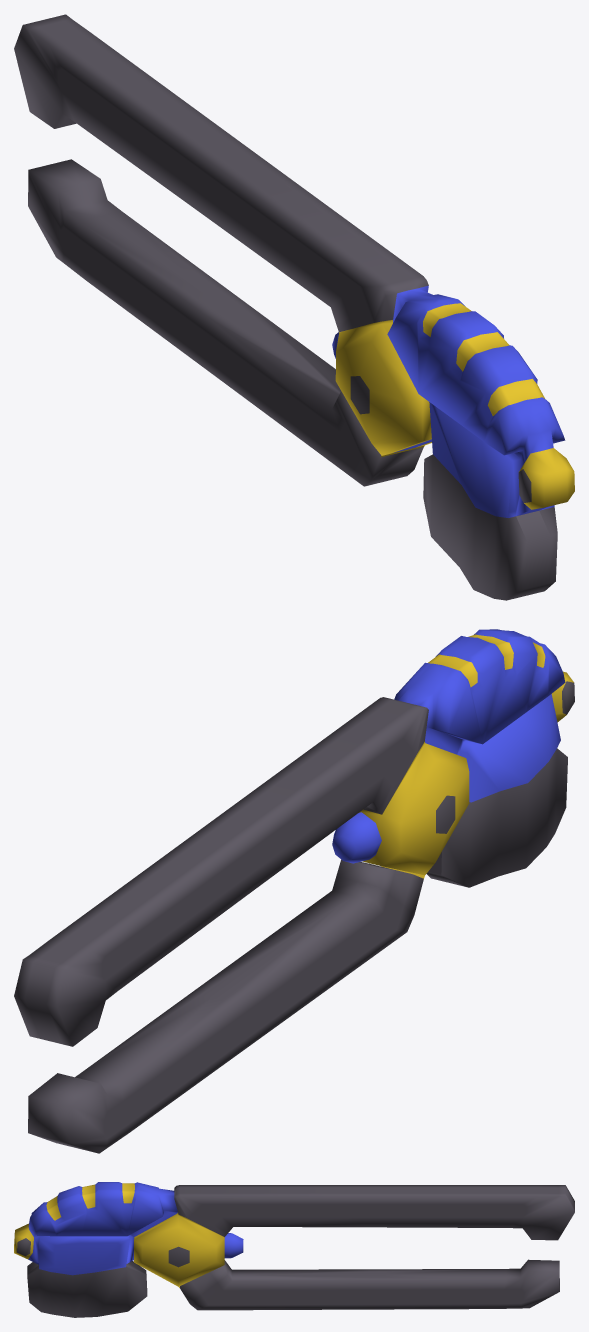
File: Taser.fbx
3 renders of one model, top to bottom at view 1: azimuth 30°, elevation 25°; view 2: azimuth 150°, elevation 25°; view 3: azimuth 270°, elevation 25°, orthographic. The views are drawn at different scales.
Parts seen in each view (by area): view 1: Taser; view 2: Taser; view 3: Taser.
Boxes of the visible parts, left/top/right/bottom form: Taser: left=14, top=14, right=574, bottom=600; Taser: left=14, top=629, right=574, bottom=1153; Taser: left=14, top=1182, right=574, bottom=1317.
Size of the model in its own units: 3.82 by 10.11 by 39.72.
